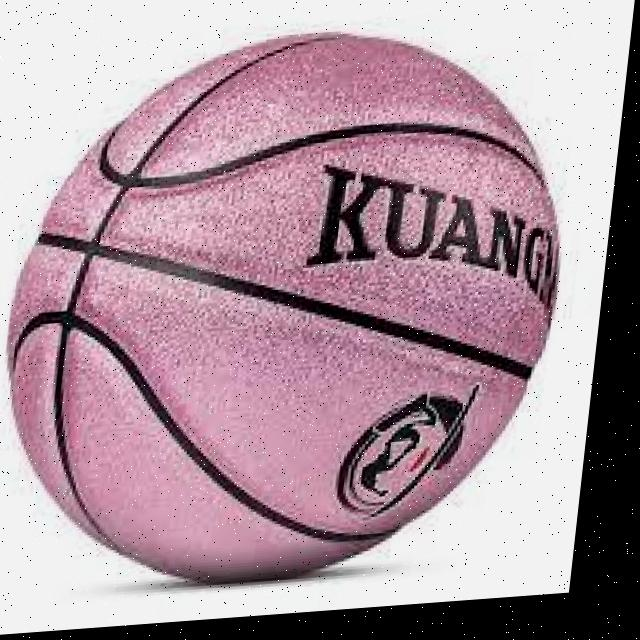Basketball: (0, 13, 590, 603)
